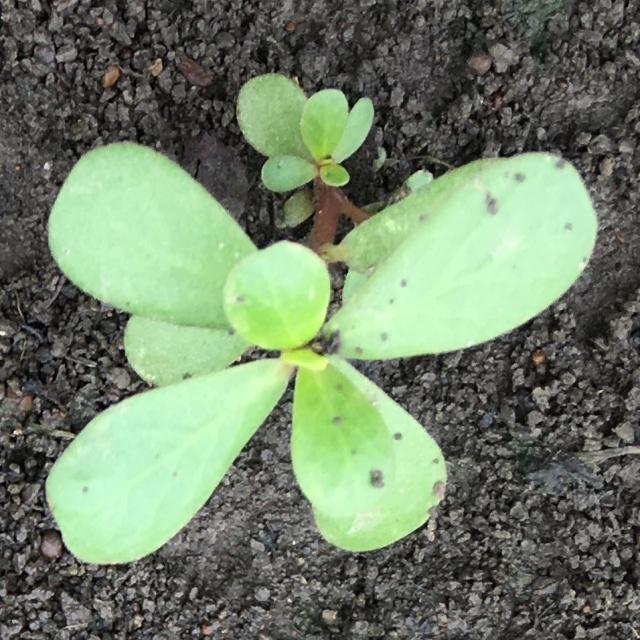Purslane: (46, 73, 597, 565)
